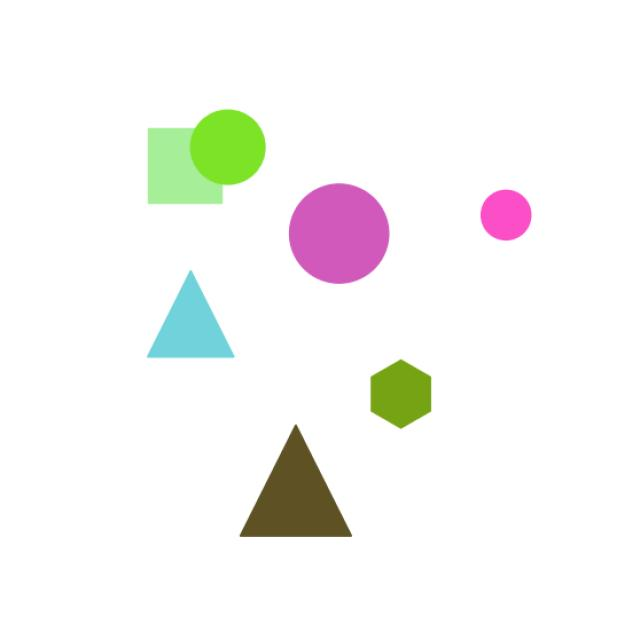Circle: (275, 172, 396, 289), (188, 103, 280, 192), (472, 183, 540, 251)
Hexagon: (352, 352, 444, 447)
Triangle: (227, 418, 366, 561), (140, 260, 238, 370)
square: (136, 120, 238, 216)
